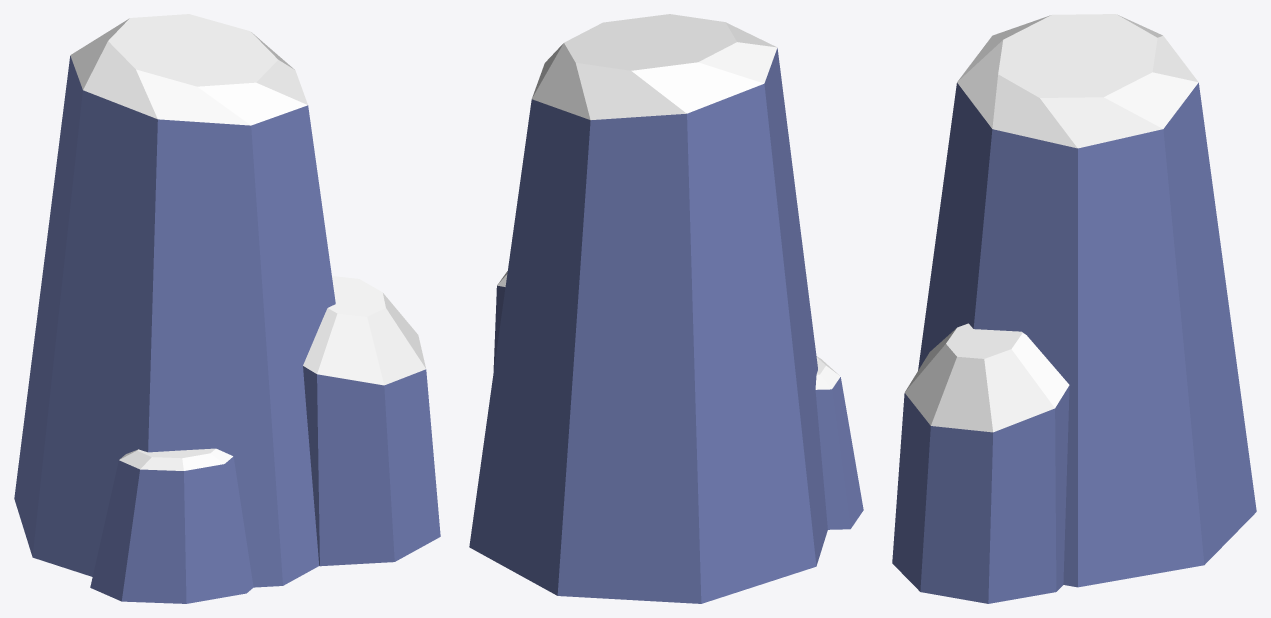
The model's file is Rock01_Low.fbx.
The picture shows the model from 3 angles, left to right: view 1: azimuth 30°, elevation 25°; view 2: azimuth 150°, elevation 25°; view 3: azimuth 270°, elevation 25°; orthographic projection. The views are drawn at different scales.
Visible parts, largest first — view 1: Rock01_Low; view 2: Rock01_Low; view 3: Rock01_Low.
Boxes of the visible parts, x1=… form: Rock01_Low: x1=14, y1=14, x2=440, y2=603; Rock01_Low: x1=469, y1=14, x2=863, y2=603; Rock01_Low: x1=892, y1=14, x2=1256, y2=603.
Bounding box in the file's own units: 25.56 × 33.21 × 23.48.
